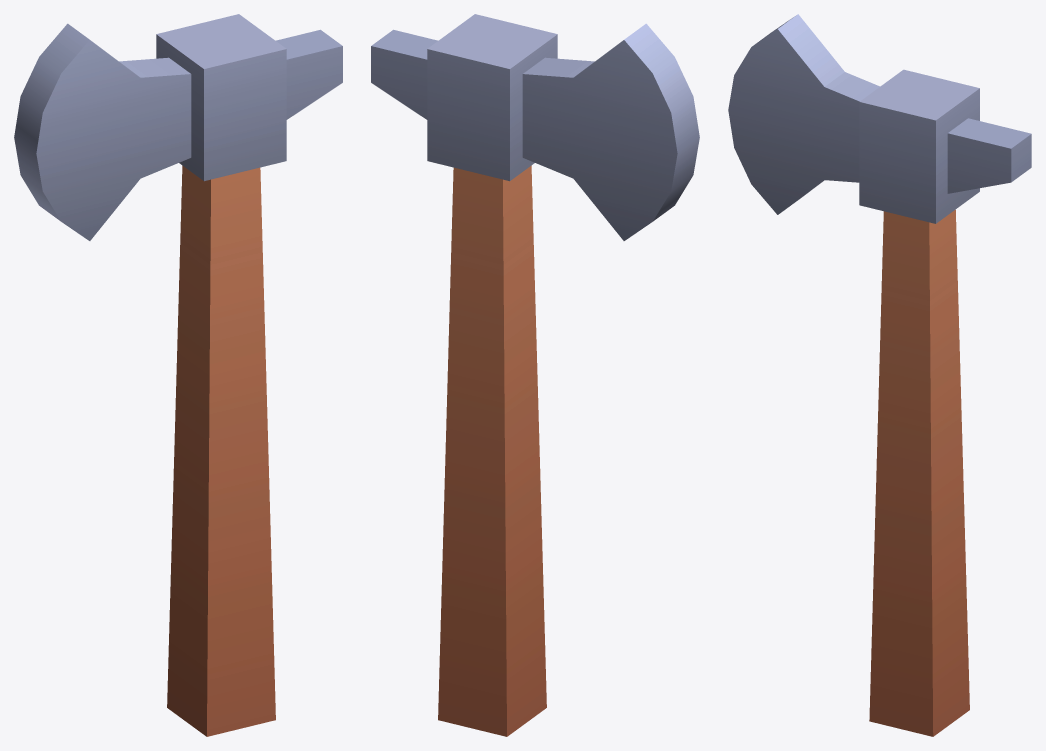
Rendered from axe.glb.
3 views of the same model, side by side, from view 1: azimuth 30°, elevation 25°; view 2: azimuth 150°, elevation 25°; view 3: azimuth 330°, elevation 25° (orthographic). The views are drawn at different scales.
Parts seen in each view (by area): view 1: tool-axe; view 2: tool-axe; view 3: tool-axe.
Boxes of the visible parts, box(x1,y1,x2,y2) form: tool-axe: box(14, 14, 342, 736); tool-axe: box(371, 14, 699, 736); tool-axe: box(728, 14, 1031, 736).
Size of the model in its own units: 0.1145 by 0.256 by 0.0309.
1 material, 1 textured.
